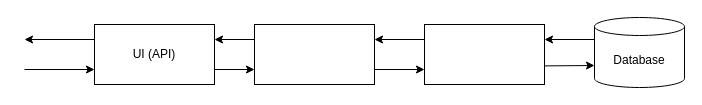
Image size: 702x105. Some labels were removed from this diagram. Each missing label, with the centre of its shape:
"Business Logic" belongs at [314,54].
"Data Access" belongs at [484,54].
